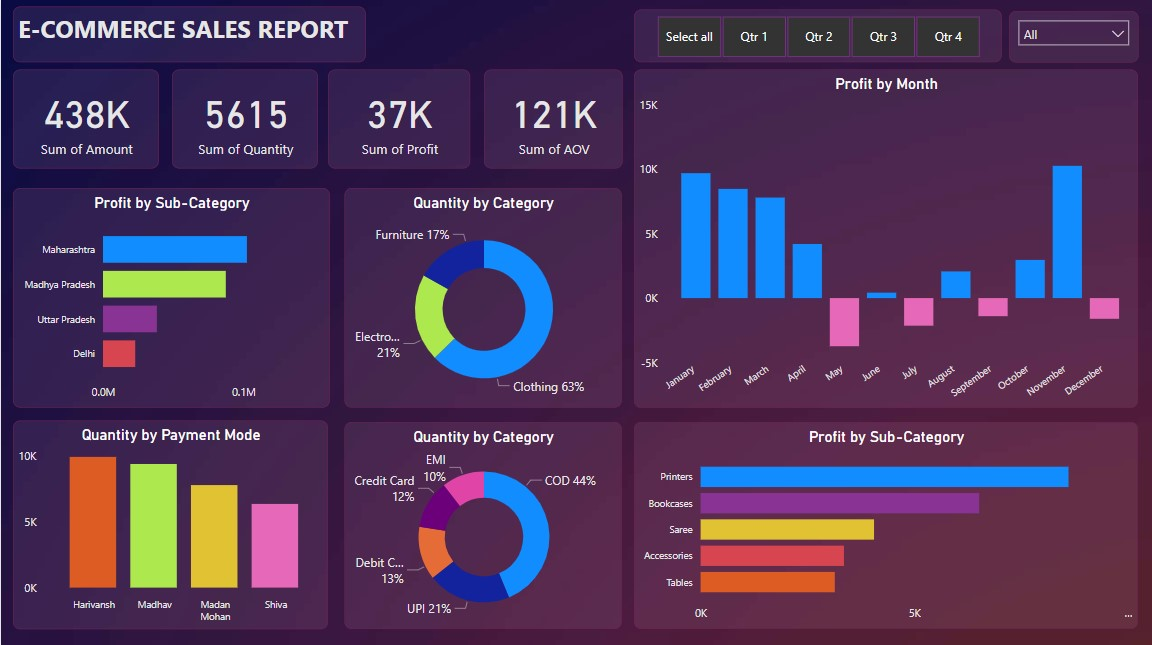

The dashboard page shown, as its layout file describes it:
{"tool":"powerbi","page":{"name":"Page 1","canvas":[1280,720],"ordinal":0},"visuals":[{"type":"textbox","box":[13.3,8.3,391.7,61.7],"z":0},{"type":"columnChart","title":"Profit by Month","fields":{"Category":["Orders.Order Date.Variation.Date Hierarchy.Month"],"Y":["Details.Profit"]},"box":[704,78,560,376],"z":1000},{"type":"barChart","title":"Profit by Sub-Category","fields":{"Category":["Details.Sub-Category"],"Y":["Details.Profit"]},"box":[704,470,560,230],"z":2000},{"type":"donutChart","title":"Quantity by Category","fields":{"Category":["Details.Category"],"Y":["Details.Quantity"]},"box":[382,210,308,244],"z":3000},{"type":"columnChart","title":"Quantity by Payment Mode","fields":{"Category":["Orders.CustomerName"],"Y":["Details.Amount"]},"box":[14,468,350,232],"z":4000},{"type":"card","fields":{"Values":["Details.Amount"]},"box":[14,78,162,110],"z":5000},{"type":"card","fields":{"Values":["Details.Quantity"]},"box":[190,78,162,110],"z":6000},{"type":"card","fields":{"Values":["Details.Profit"]},"box":[364,78,158,110],"z":7000},{"type":"card","fields":{"Values":["Details.AOV"]},"box":[536,78,154,110],"z":8000},{"type":"barChart","title":"Profit by Sub-Category","fields":{"Category":["Orders.State"],"Y":["Details.Amount"]},"box":[14,210,352,244],"z":9000},{"type":"donutChart","title":"Quantity by Category","fields":{"Category":["Details.PaymentMode"],"Y":["Details.Quantity"]},"box":[382,470,308,230],"z":10000},{"type":"slicer","fields":{"Values":["Orders.Order Date.Variation.Date Hierarchy.Quarter"]},"box":[703.8,11.2,408.8,58.8],"z":11000},{"type":"slicer","fields":{"Values":["Orders.State"]},"box":[1120,12.5,144.2,57.5],"z":12000}]}

Visuals, with their boxes in screenshot pixels (x1, y1, x2, y2), scaled from the page's 1280x720 canvas onto the 1152x645 screenshot:
textbox: region(12, 7, 364, 63)
"Profit by Month" columnChart: region(634, 70, 1138, 407)
"Profit by Sub-Category" barChart: region(634, 421, 1138, 627)
"Quantity by Category" donutChart: region(344, 188, 621, 407)
"Quantity by Payment Mode" columnChart: region(13, 419, 328, 627)
card - Details.Amount: region(13, 70, 158, 168)
card - Details.Quantity: region(171, 70, 317, 168)
card - Details.Profit: region(328, 70, 470, 168)
card - Details.AOV: region(482, 70, 621, 168)
"Profit by Sub-Category" barChart: region(13, 188, 329, 407)
"Quantity by Category" donutChart: region(344, 421, 621, 627)
slicer - Orders.Order Date.Variation.Date Hierarchy.Quarter: region(633, 10, 1001, 63)
slicer - Orders.State: region(1008, 11, 1138, 63)
